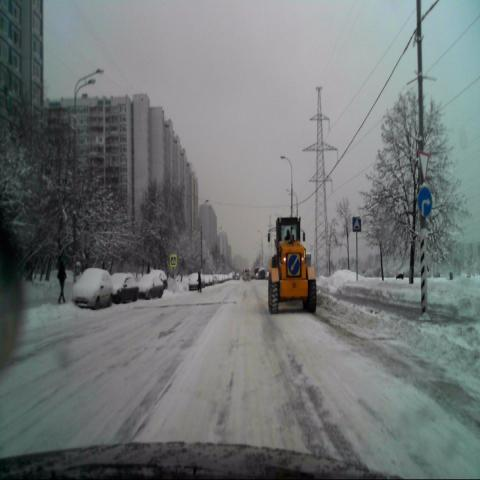4_1_2: (417, 184, 434, 220)
